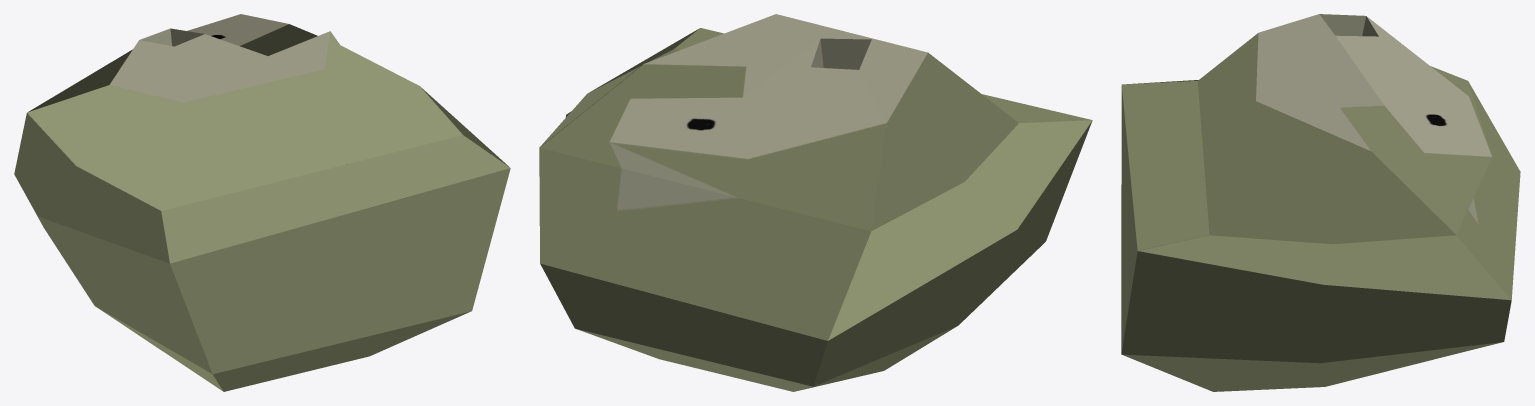
File: fossil4.glb
3 views of the same model, side by side, from view 1: azimuth 30°, elevation 25°; view 2: azimuth 150°, elevation 25°; view 3: azimuth 270°, elevation 25° (orthographic). The views are drawn at different scales.
Visible parts, largest first — view 1: Plane; view 2: Plane; view 3: Plane.
Part boxes in pixels (x1,y1,x2,y2): Plane: (14,14,510,391); Plane: (539,14,1092,391); Plane: (1121,14,1520,391).
Size of the model in its own units: 2.08 by 1.48 by 1.74.
Materials: 1 (1 with a texture image).
